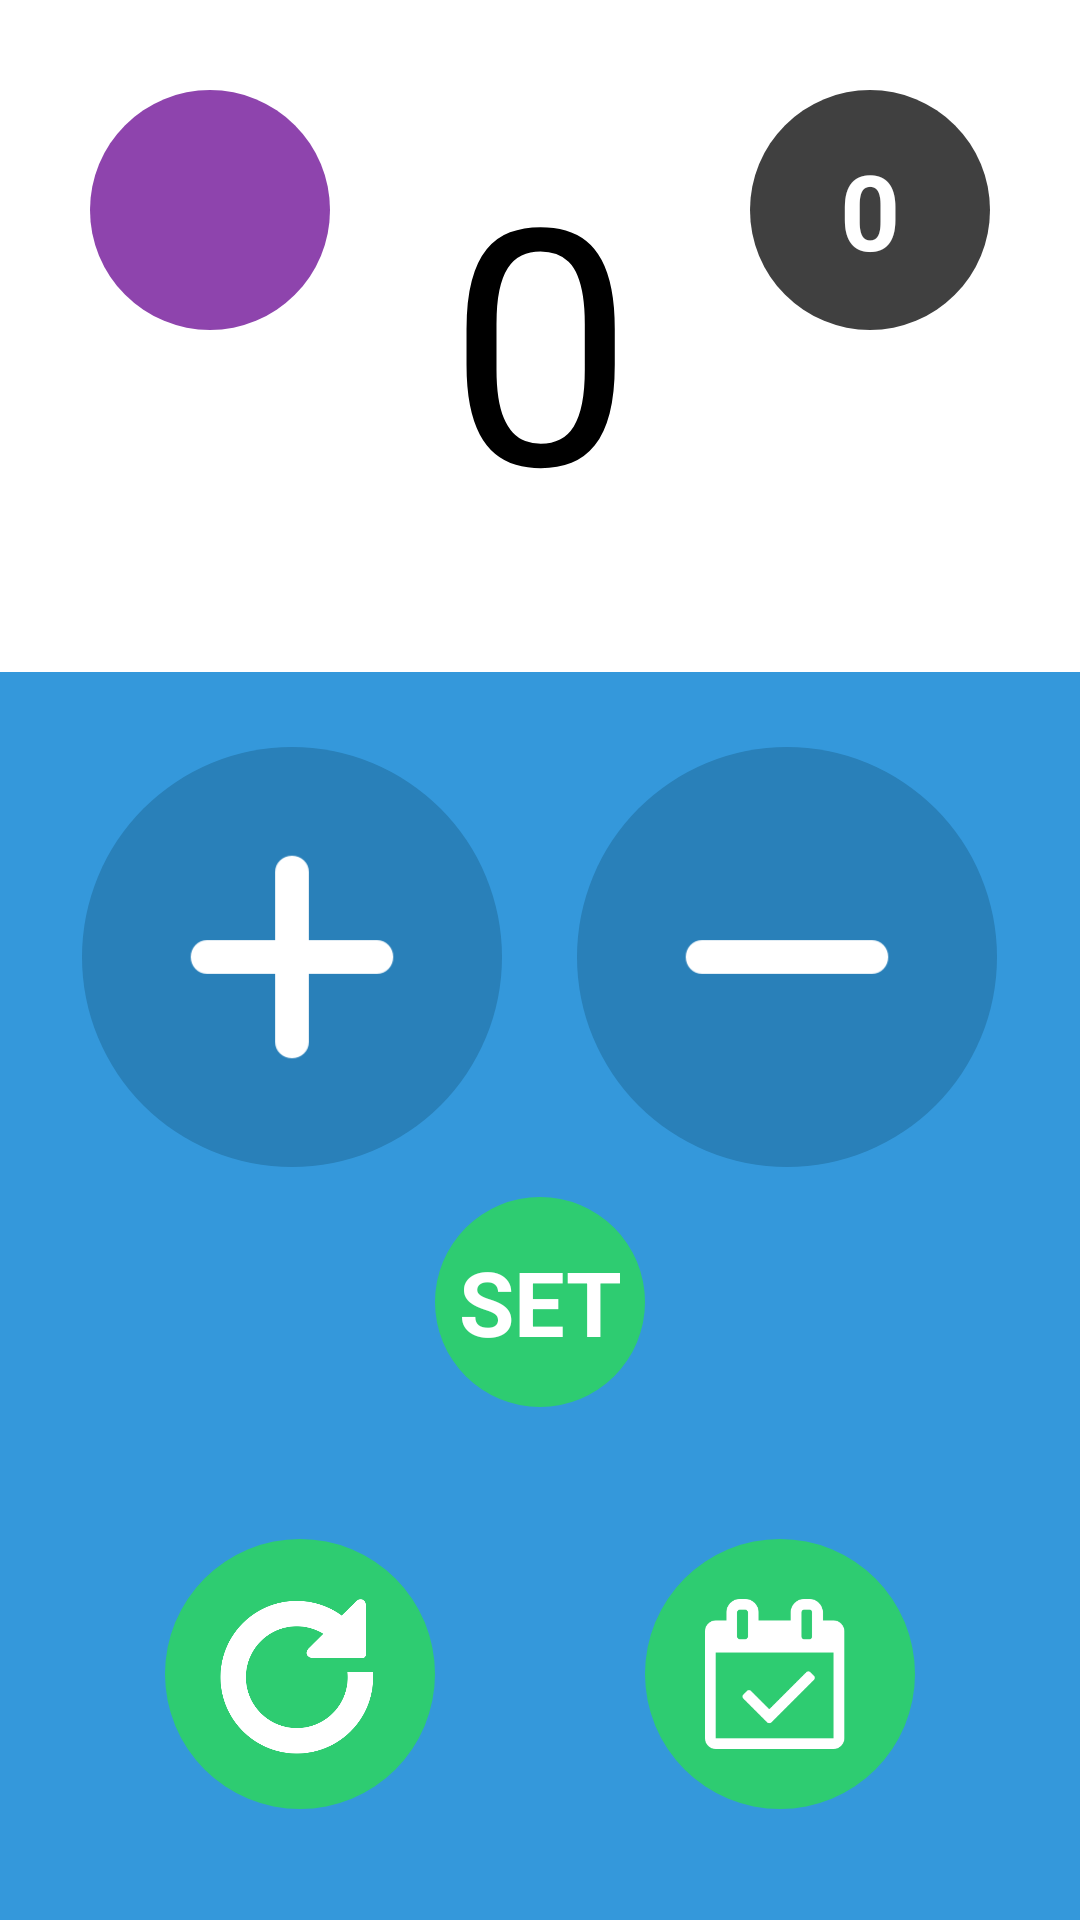

Icons on this 1080×1920 Android screen, each with the point to tap as [x,y]:
calendar custom: [780,1674]
reset custom: [300,1674]
